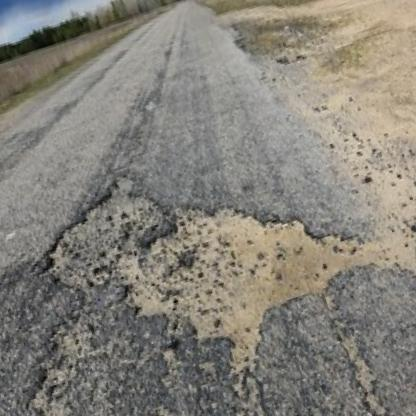pothole: (29, 110, 389, 416)
